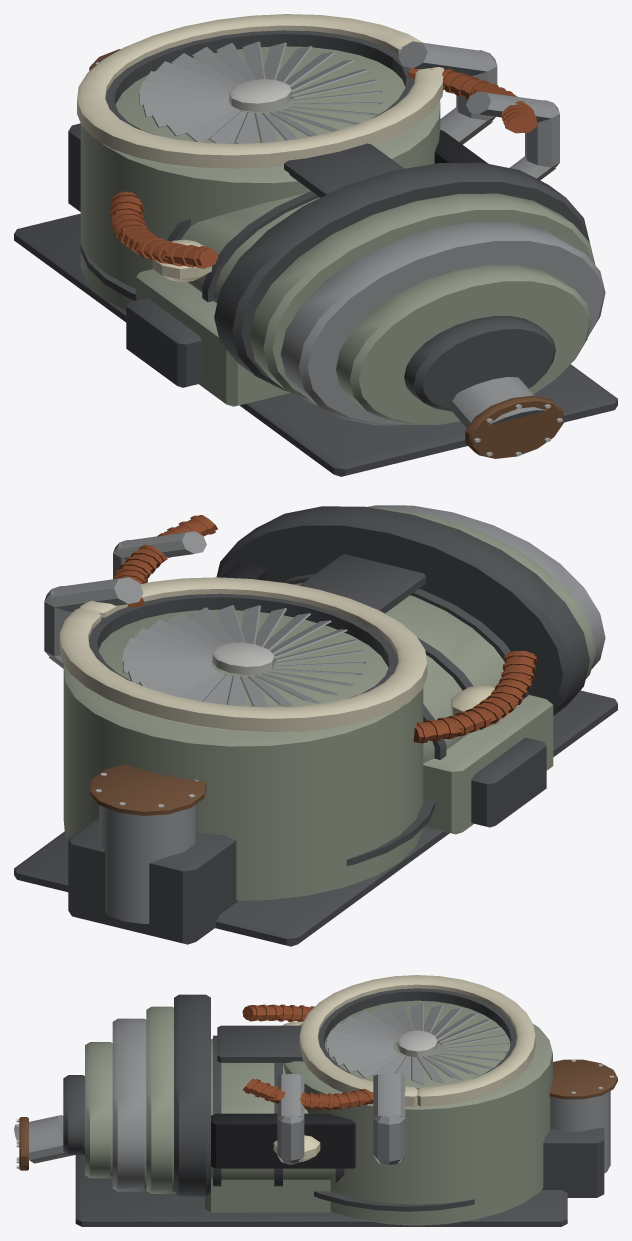
Rendered from steam-turbine.glb.
3 renders of one model, top to bottom at view 1: azimuth 30°, elevation 25°; view 2: azimuth 150°, elevation 25°; view 3: azimuth 270°, elevation 25°, orthographic. The views are drawn at different scales.
Parts seen in each view (by area): view 1: body, anim_spin_turbine_fan; view 2: body, anim_spin_turbine_fan; view 3: body, anim_spin_turbine_fan.
Part boxes in pixels (box(x1,y1,x2,y2)): body: box(14, 14, 617, 476); anim_spin_turbine_fan: box(138, 41, 382, 143); body: box(14, 505, 617, 946); anim_spin_turbine_fan: box(121, 605, 365, 707); body: box(14, 975, 617, 1226); anim_spin_turbine_fan: box(326, 1003, 509, 1085).
Bounding box in the file's own units: 2.94 × 1.43 × 4.91.
